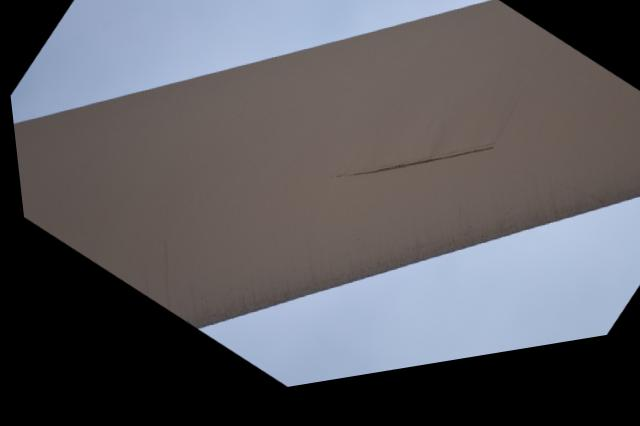damage: (338, 92, 494, 254)
